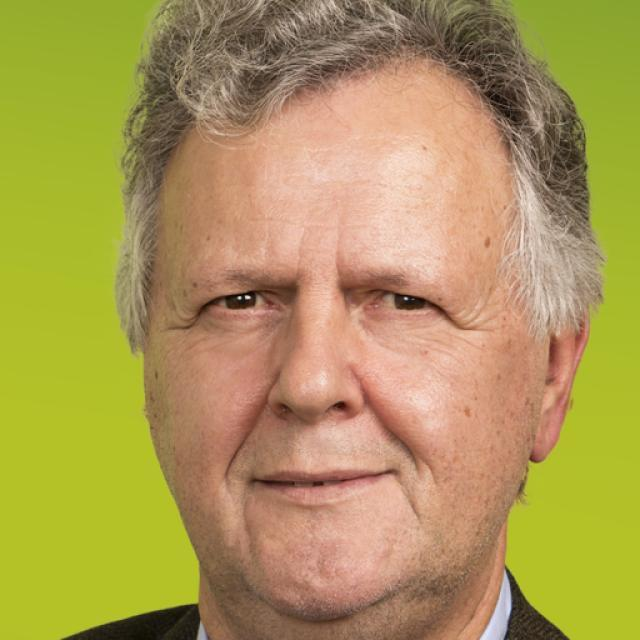content: (142, 46, 546, 622)
